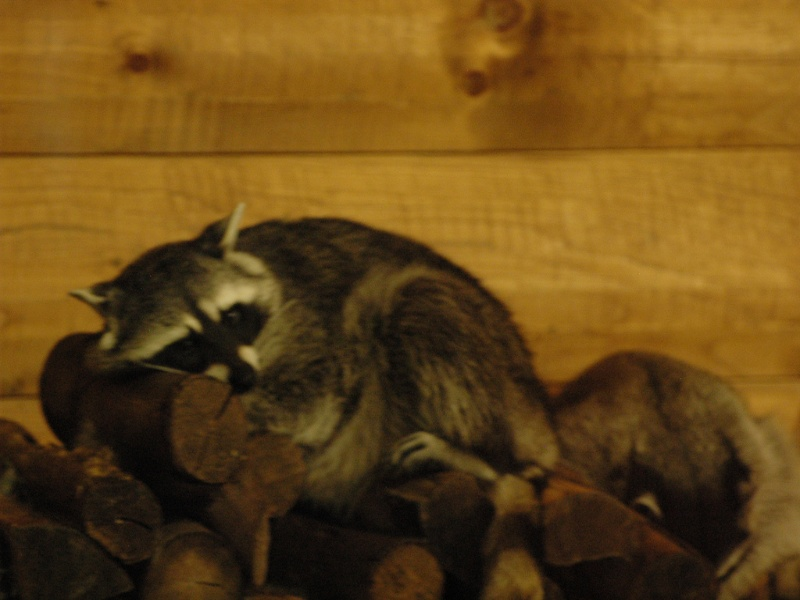raccoon: (67, 199, 766, 566)
